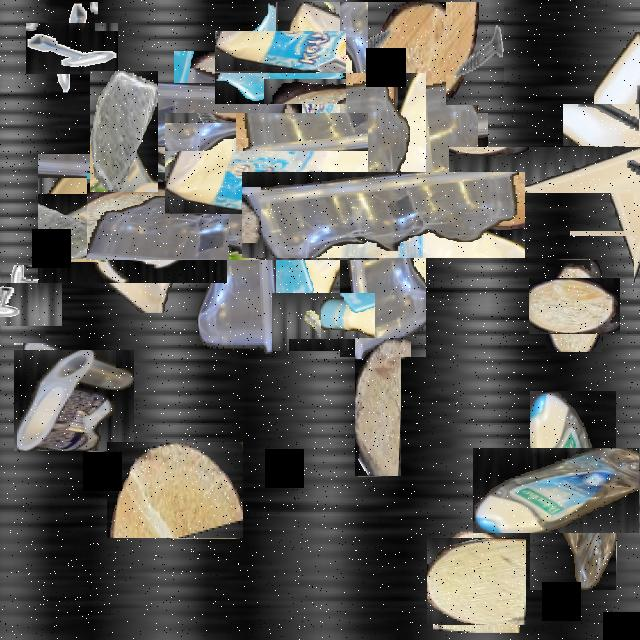glass: (230, 16, 332, 119), (90, 71, 158, 192)
metal: (282, 282, 363, 362), (446, 2, 504, 105), (36, 12, 108, 84), (580, 86, 640, 162), (0, 273, 53, 334), (256, 174, 298, 249)
plastic: (221, 57, 433, 270), (138, 120, 328, 310), (290, 122, 476, 308), (53, 139, 213, 298), (521, 74, 640, 266), (501, 419, 640, 561), (19, 344, 130, 456)
wood: (368, 2, 478, 194), (158, 68, 286, 196), (107, 442, 243, 538), (430, 535, 524, 628), (355, 338, 401, 476), (537, 269, 611, 343), (602, 197, 640, 268)
